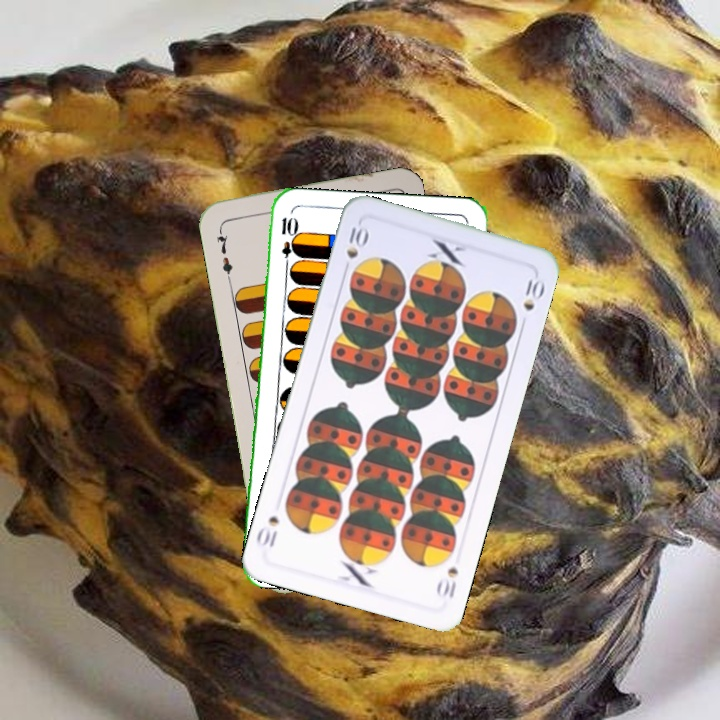E10: (277, 213, 296, 272)
E7: (212, 224, 235, 283)
S10: (341, 219, 370, 262), (432, 561, 461, 602)
